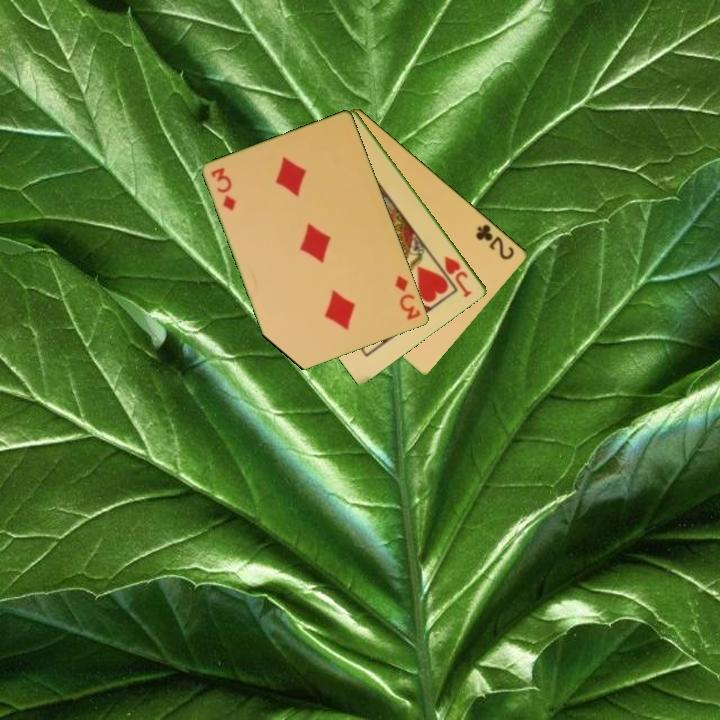2c: (472, 221, 518, 263)
3d: (392, 272, 424, 323), (207, 164, 239, 214)
Jh: (441, 253, 475, 300)
